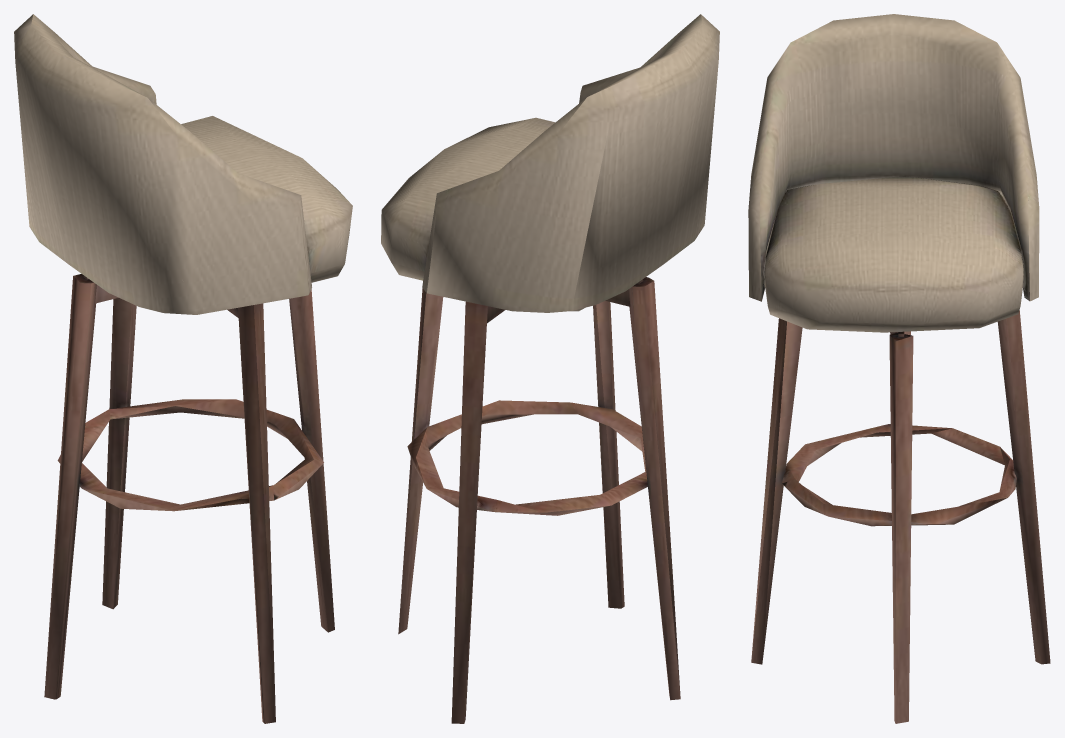
Rendered from Chair0003.obj.
3 views of the same model, side by side, from view 1: azimuth 30°, elevation 25°; view 2: azimuth 150°, elevation 25°; view 3: azimuth 270°, elevation 25° (orthographic). The views are drawn at different scales.
Size of the model in its own units: 0.561 by 1.17 by 0.544.
Materials: 1 (1 with a texture image).
